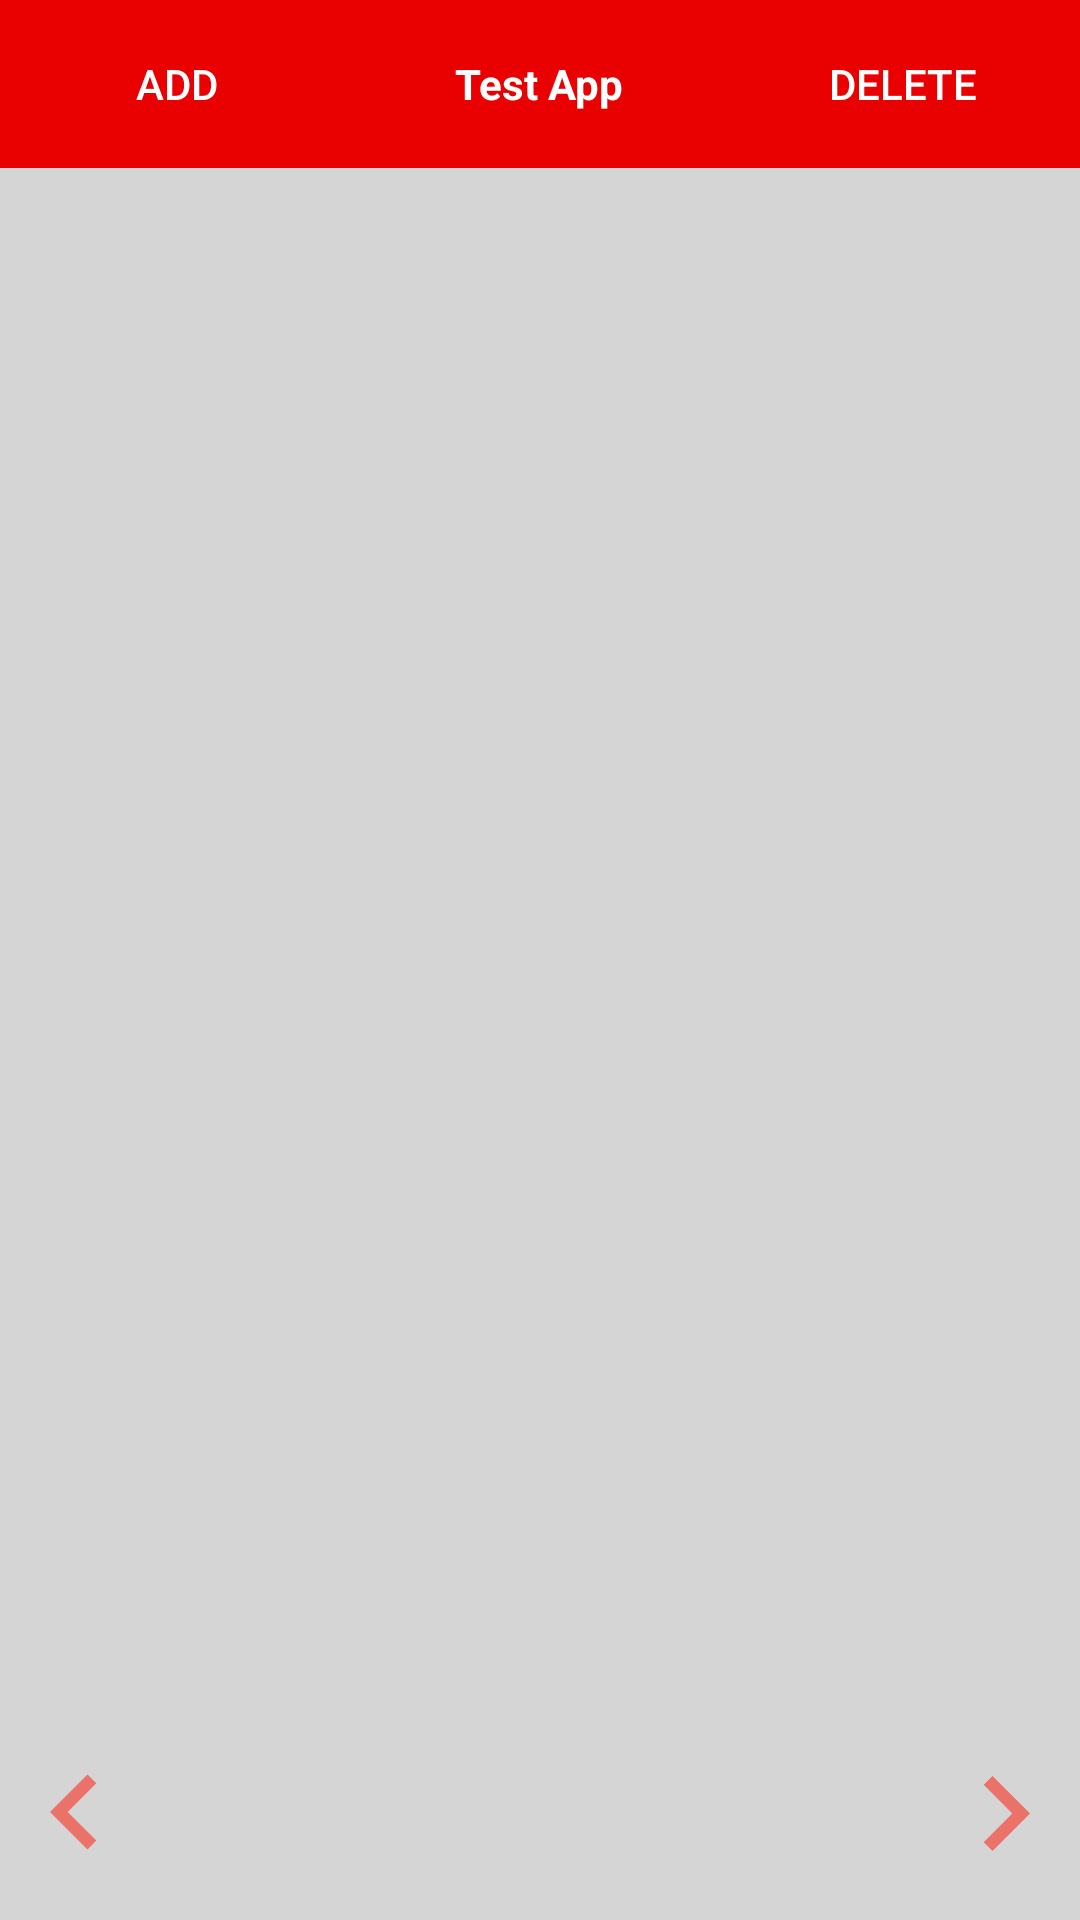

Icons on this 1080px×1920px Android screen, each with the point to tap as point (x, y):
keyboard arrow left: point (73, 1812)
keyboard arrow right: point (1007, 1813)
